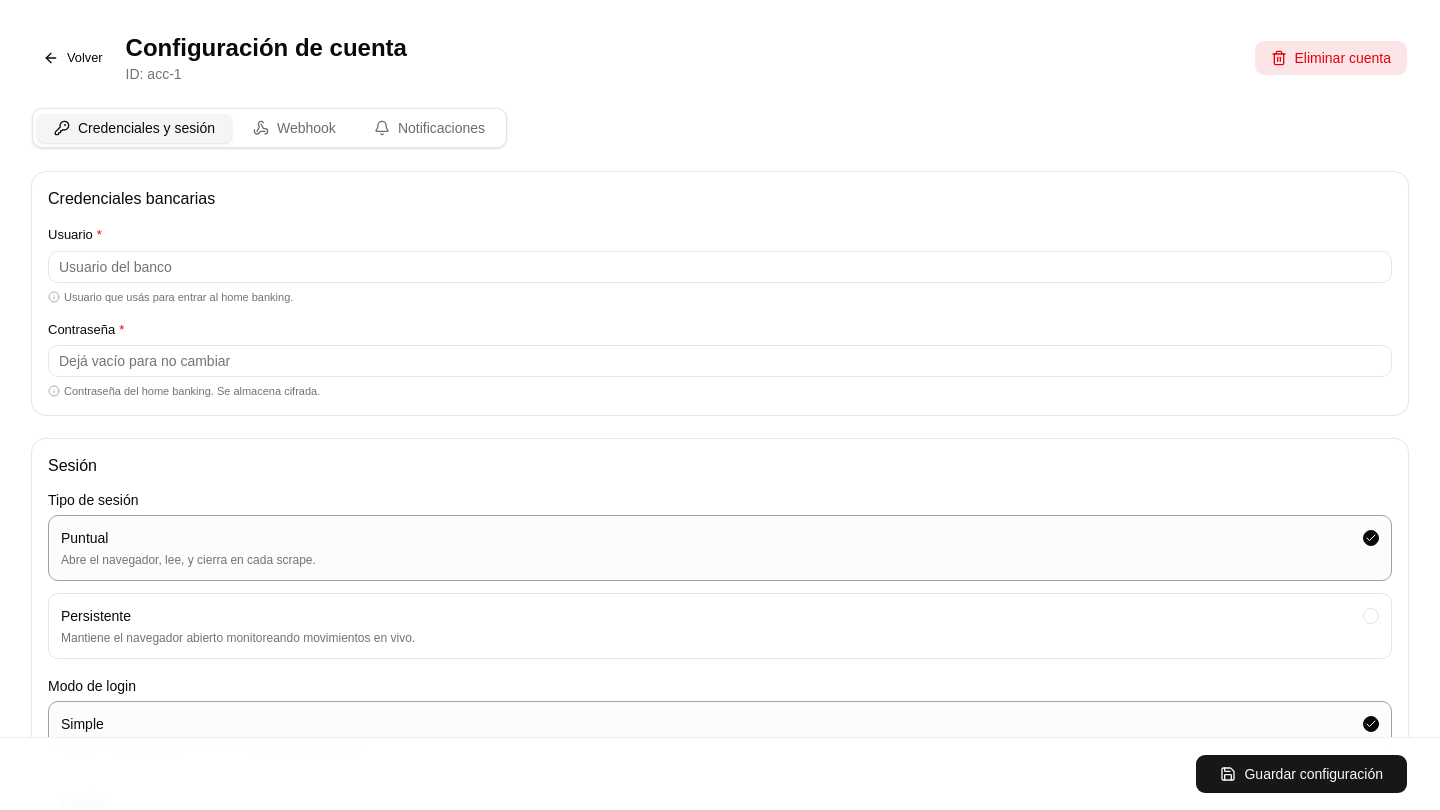
Test: AccountConfig page › shows the authentication card inside the Webhook tab in passthrough mode
The image size is (1440, 810).
Expected: the heading "Configuración de cuenta" is shown, [126,32,407,64]
Click the tab "Webhook" at (294,128), box [236,114,353,142]
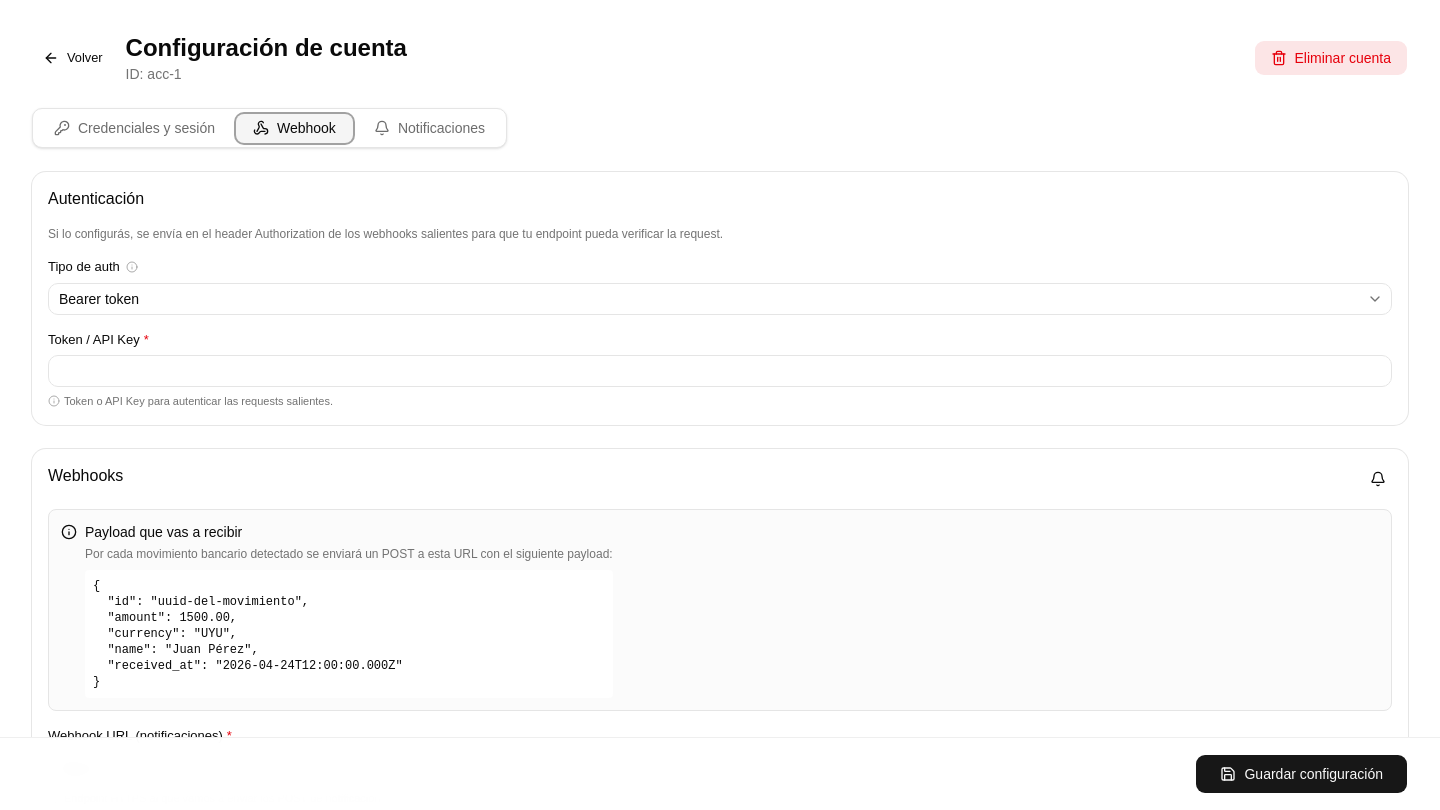
Expected: the text "Autenticación" is shown, [48,190,144,207]
Expected: the text "se envía en el header Authorization de los webhooks salientes" is shown, [48,227,723,241]
